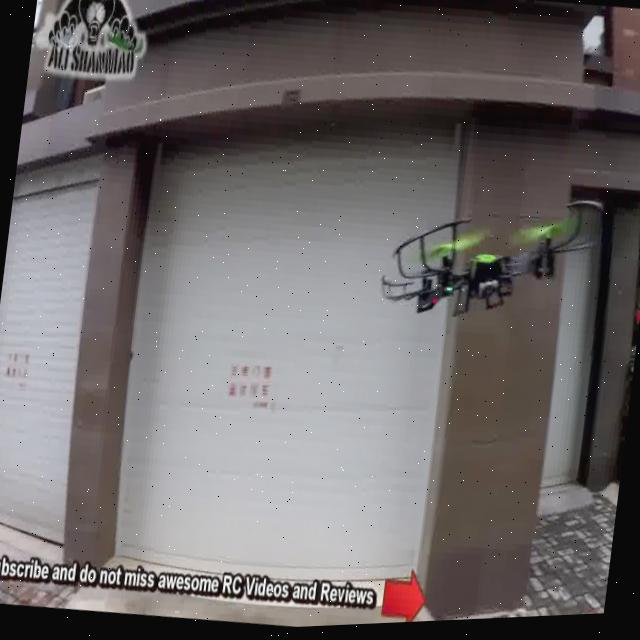drone: (371, 165, 612, 358)
